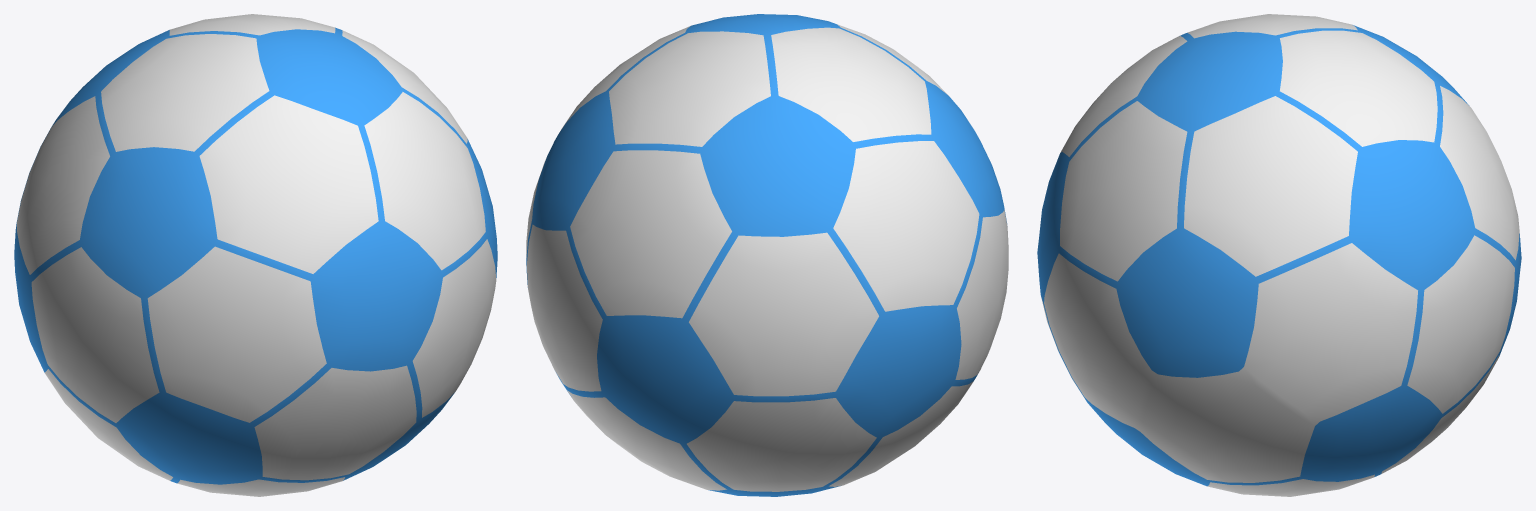
The model's file is Soccerball_Blue.fbx.
3 renders of one model, left to right at view 1: azimuth 30°, elevation 25°; view 2: azimuth 150°, elevation 25°; view 3: azimuth 270°, elevation 25°, orthographic.
Parts seen in each view (by area): view 1: Soccerball_Blue; view 2: Soccerball_Blue; view 3: Soccerball_Blue.
Boxes of the visible parts, x1,y1,x2,y2 form: Soccerball_Blue: (14, 14, 497, 496); Soccerball_Blue: (526, 14, 1008, 496); Soccerball_Blue: (1037, 14, 1521, 496).
Size of the model in its own units: 92.54 by 92.53 by 92.65.
